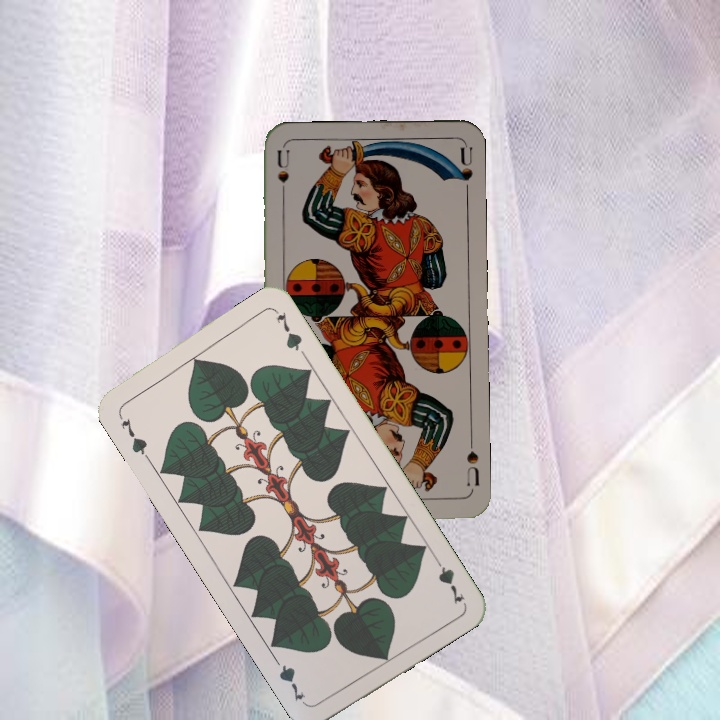G7: (429, 552, 467, 607), (116, 414, 152, 462)
SU: (273, 147, 291, 206), (462, 447, 482, 493)
